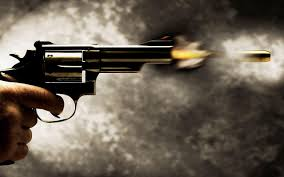gun: (1, 33, 180, 125)
